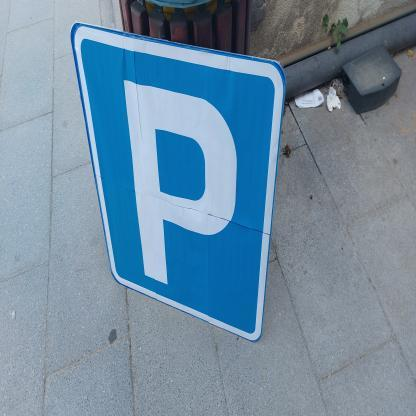parking: (68, 21, 289, 350)
